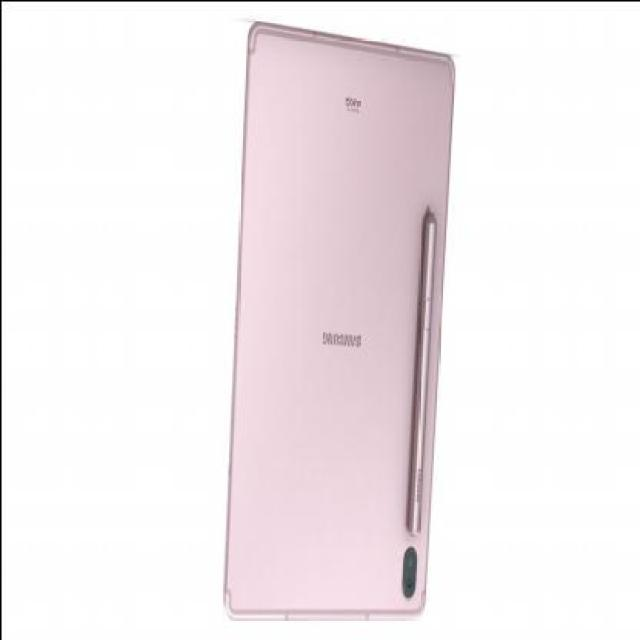tablet: (186, 8, 479, 638)
